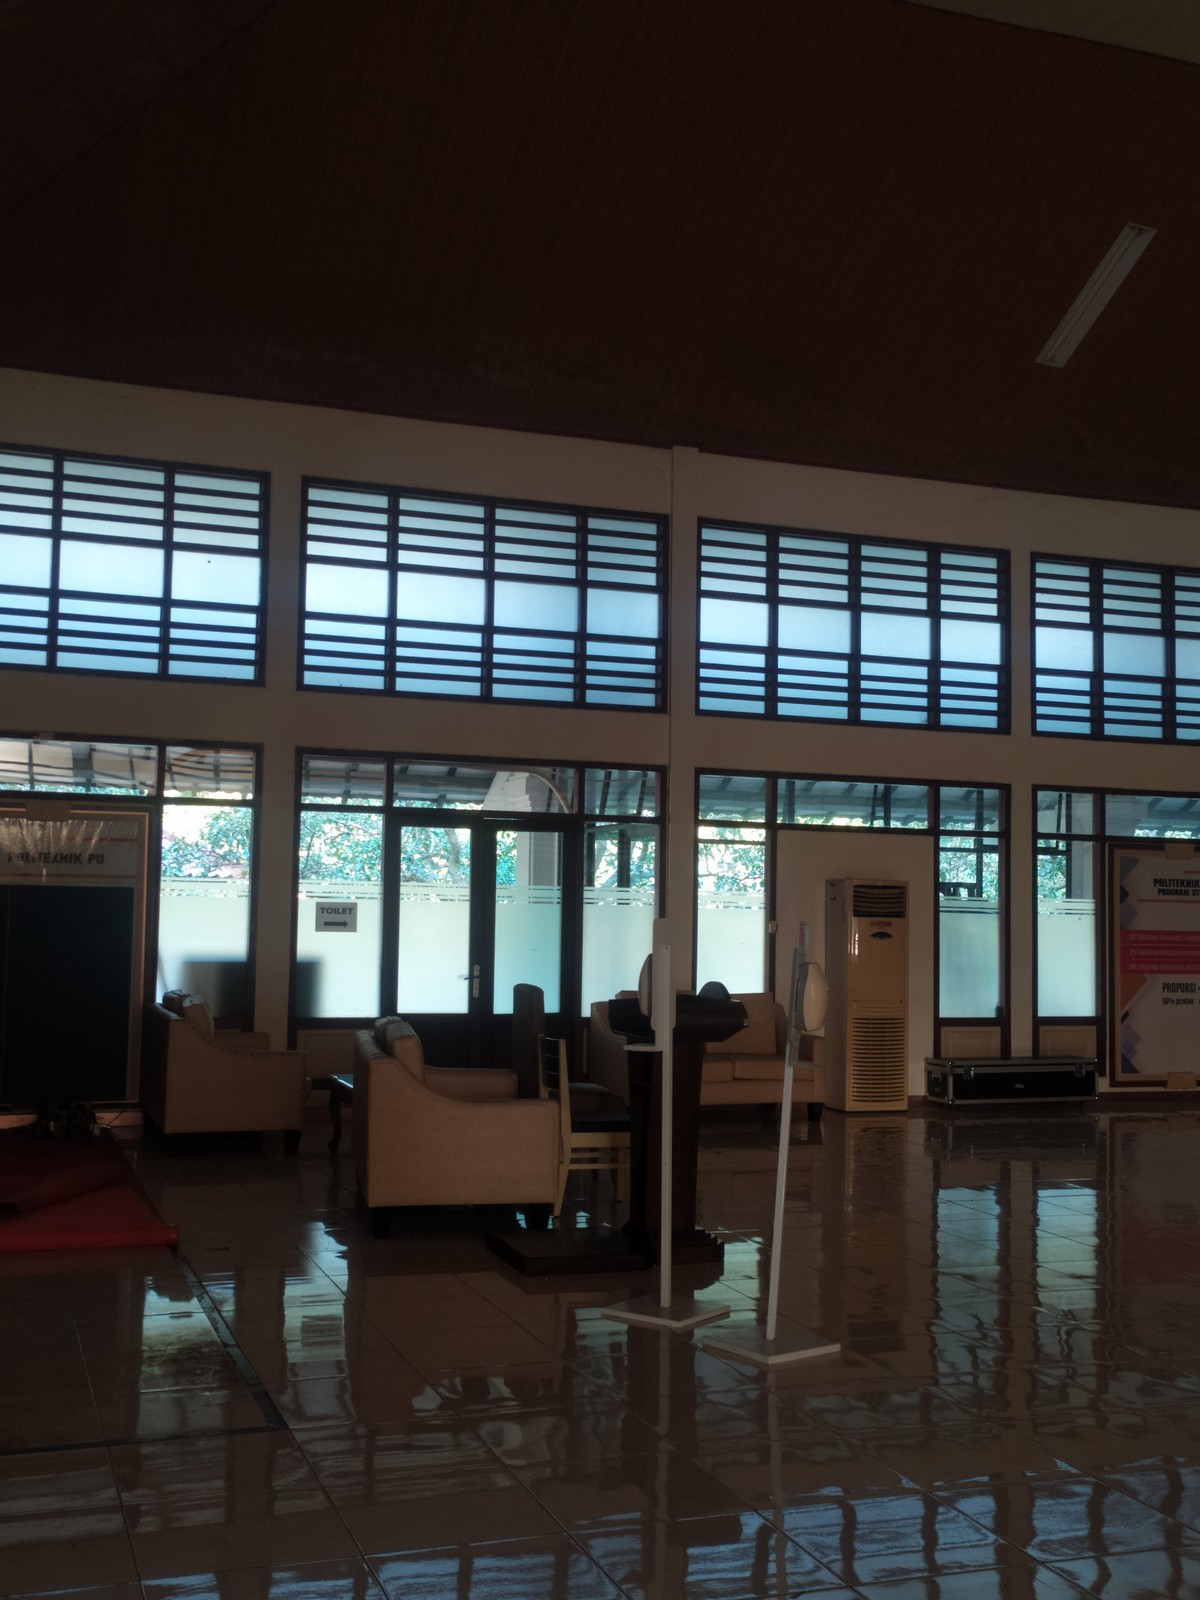concrete column: (661, 432, 706, 991)
